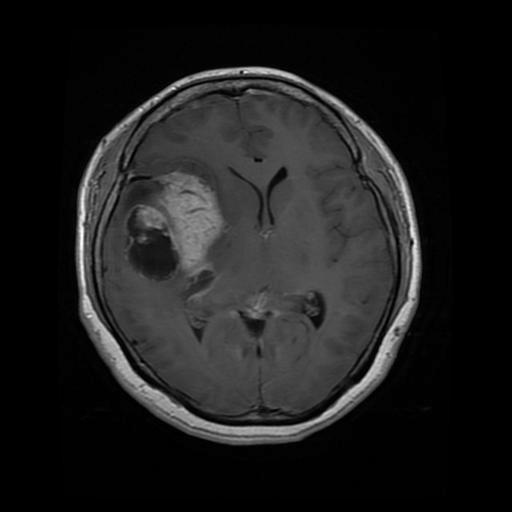Tumour-Meningioma: (113, 171, 242, 300)
